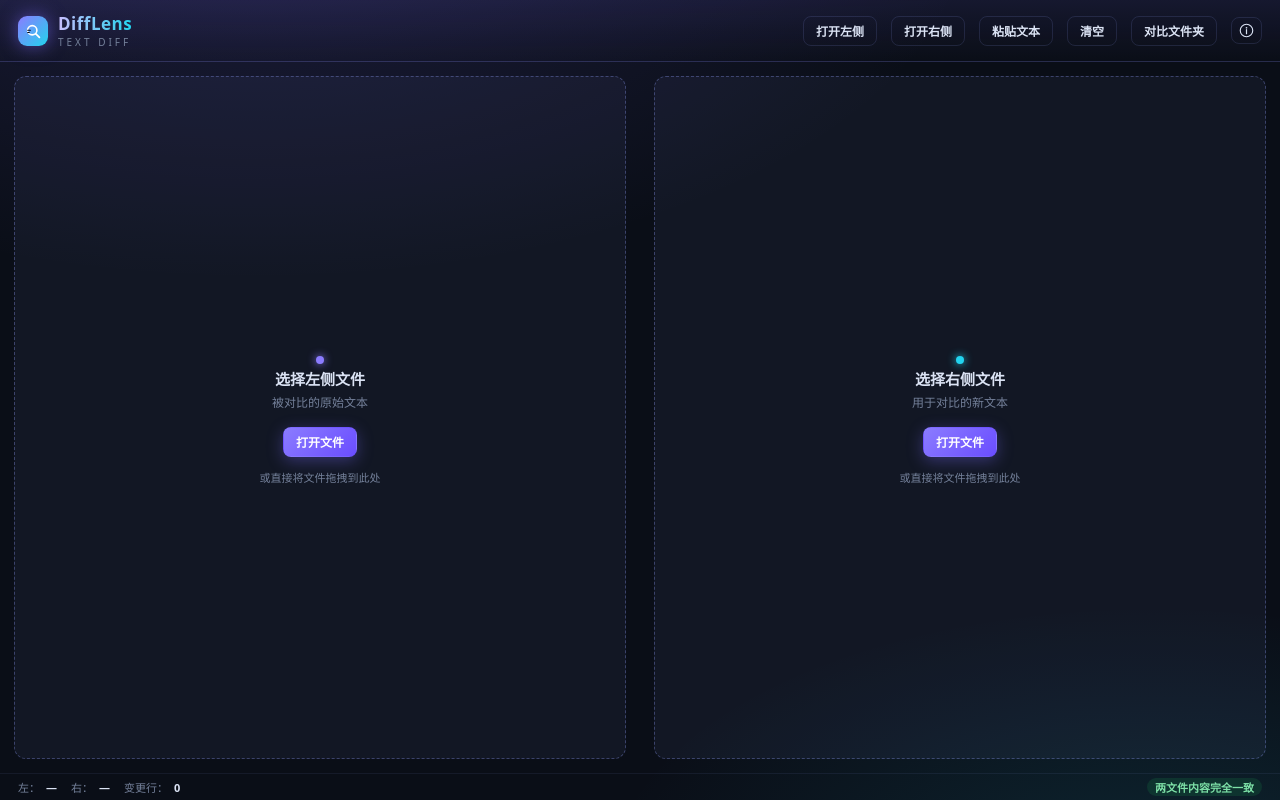
Scenario: App - 加载文件后的非空态 › 打开文件后渲染对比视图与导出入口，并显示文件内容
Step 1. Click the button "打开左侧" → (840, 30), box x1=803 y1=16 x2=877 y2=46
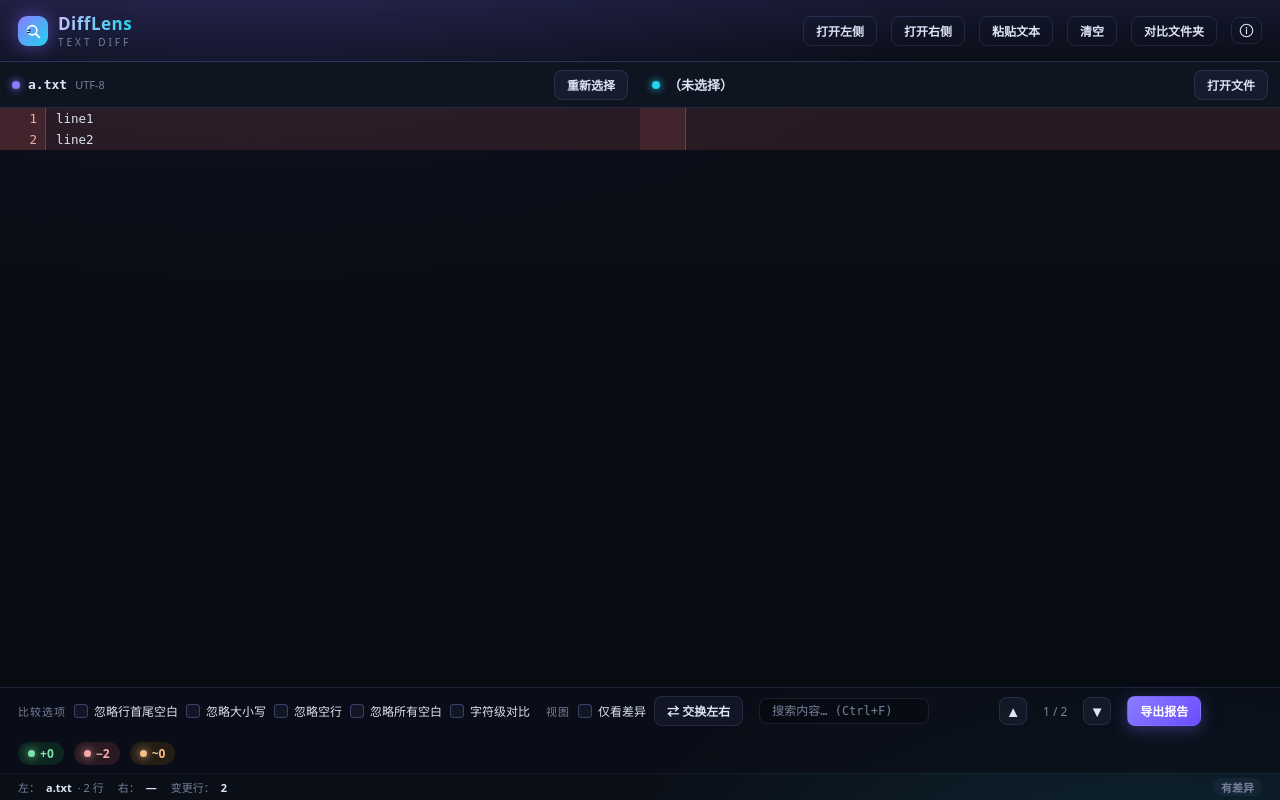
Now the button "导出报告" is shown, box x1=1127 y1=696 x2=1201 y2=726
Now the text "line1" is shown, box x1=56 y1=111 x2=94 y2=126
Now the text "a.txt" next to "UTF-8" is shown, box x1=28 y1=77 x2=67 y2=92
